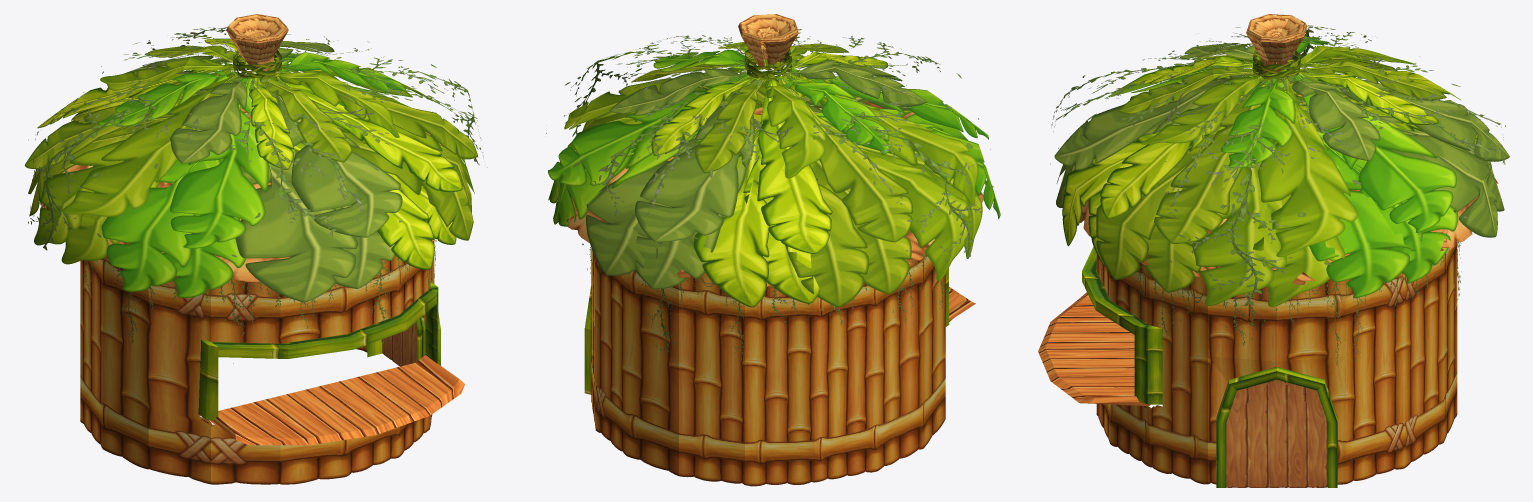
Rendered from restaurant.fbx.
3 views of the same model, side by side, from view 1: azimuth 30°, elevation 25°; view 2: azimuth 150°, elevation 25°; view 3: azimuth 270°, elevation 25° (orthographic).
Parts seen in each view (by area): view 1: Cylinder.003, листы на крышу, листы на крышу.001, Cylinder, листы на крышу.002, листы на крышу.003, лианы на зонтик.004, пимпочка_сверху7, Cylinder.002, Cylinder.001, листы на крышу.004, лиана_вокруг_пимпочки; view 2: Cylinder.003, листы на крышу, листы на крышу.001, листы на крышу.002, листы на крышу.003, лианы на зонтик.004, пимпочка_сверху7, Cylinder.002, Cylinder, листы на крышу.004, лиана_вокруг_пимпочки; view 3: Cylinder.003, листы на крышу, листы на крышу.001, листы на крышу.002, Cylinder, листы на крышу.003, Cylinder.001, лианы на зонтик.004, пимпочка_сверху7, Cylinder.002, листы на крышу.004, лиана_вокруг_пимпочки.
Boxes of the visible parts, x1,y1,x2,y2 form: Cylinder.003: (80,241,434,484); листы на крышу: (24,53,477,248); листы на крышу.001: (28,73,474,302); Cylinder: (198,282,464,445); листы на крышу.002: (98,38,407,169); листы на крышу.003: (29,73,471,297); лианы на зонтик.004: (28,27,487,280); пимпочка_сверху7: (226,14,288,71); Cylinder.002: (81,240,436,363); Cylinder.001: (382,322,417,366); листы на крышу.004: (41,106,441,281); лиана_вокруг_пимпочки: (233,50,281,80); Cylinder.003: (591,247,945,486); листы на крышу: (548,56,988,253); листы на крышу.001: (548,75,1000,307); листы на крышу.002: (609,42,927,178); листы на крышу.003: (553,76,986,303); лианы на зонтик.004: (546,27,993,261); пимпочка_сверху7: (738,14,798,68); Cylinder.002: (587,247,948,364); Cylinder: (584,268,975,394); листы на крышу.004: (567,101,983,286); лиана_вокруг_пимпочки: (745,49,791,78); Cylinder.003: (1096,242,1457,484); листы на крышу: (1054,55,1509,257); листы на крышу.001: (1056,69,1497,305); листы на крышу.002: (1118,37,1446,167); Cylinder: (1038,246,1337,487); листы на крышу.003: (1056,73,1504,306); Cylinder.001: (1226,380,1327,487); лианы на зонтик.004: (1050,25,1505,305); пимпочка_сверху7: (1246,14,1307,71); Cylinder.002: (1098,241,1461,364); листы на крышу.004: (1080,94,1498,284); лиана_вокруг_пимпочки: (1253,49,1300,80).
Size of the model in its own units: 382 by 343 by 383.
